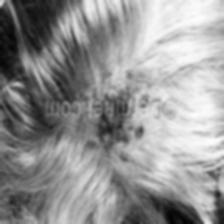Potentially Malignant Skin Tumors: (96, 87, 146, 153)
